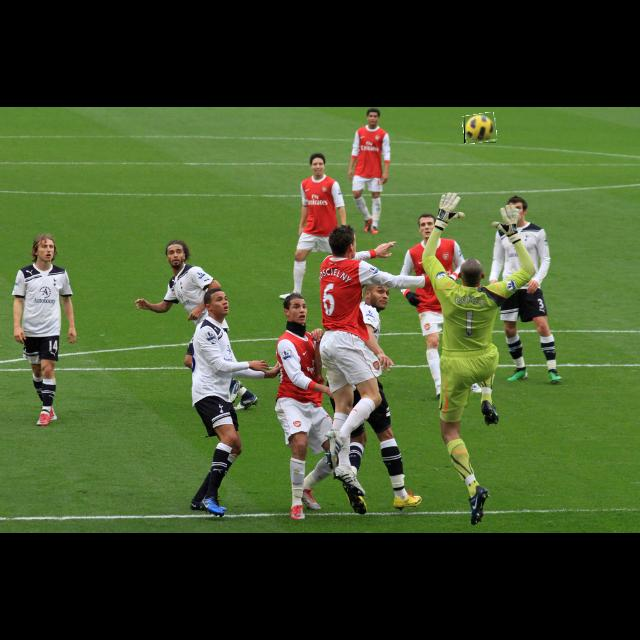Football: (464, 113, 496, 143)
